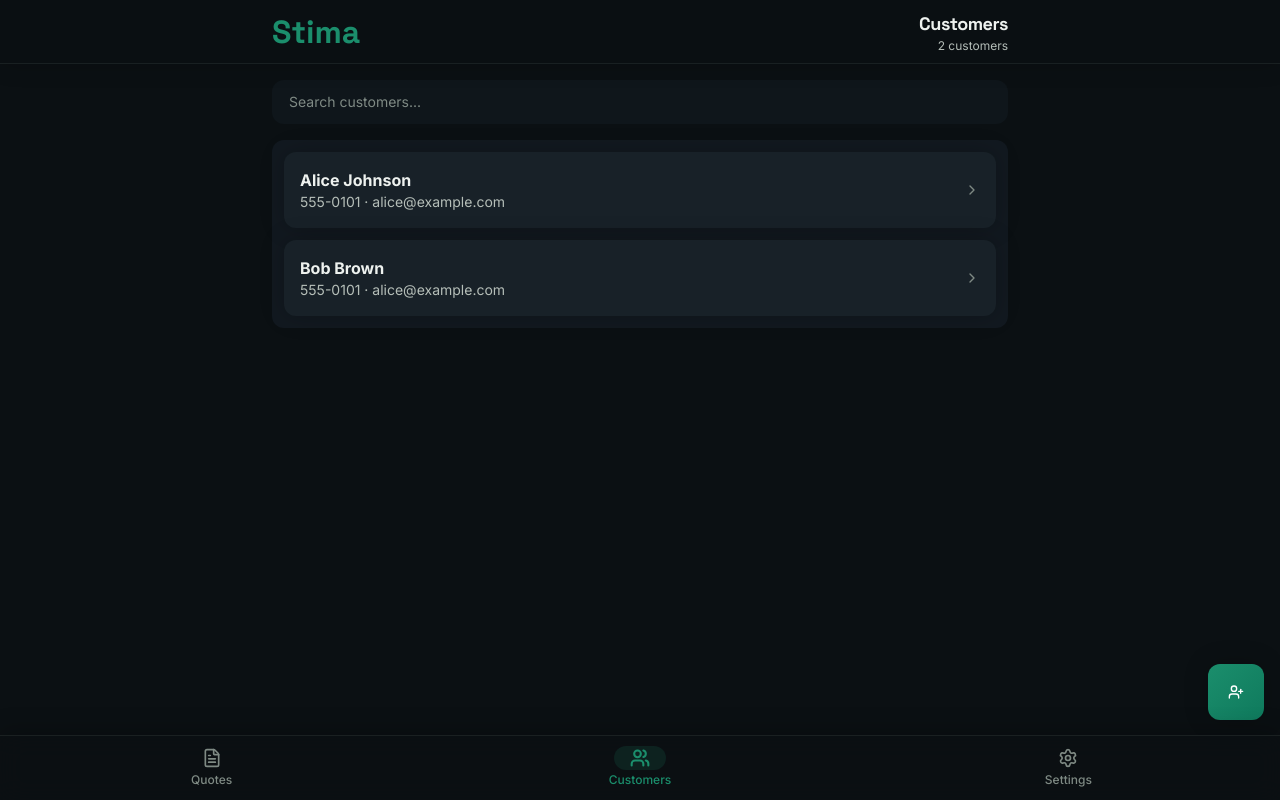
Test: CustomerListScreen › filters customer rows by name with case-insensitive search
Expected: the text "Alice Johnson" is shown, 300,170 -> 411,190
Type "bob" into the field labelled "Search customers" at (640, 102), box 289,92 -> 991,112
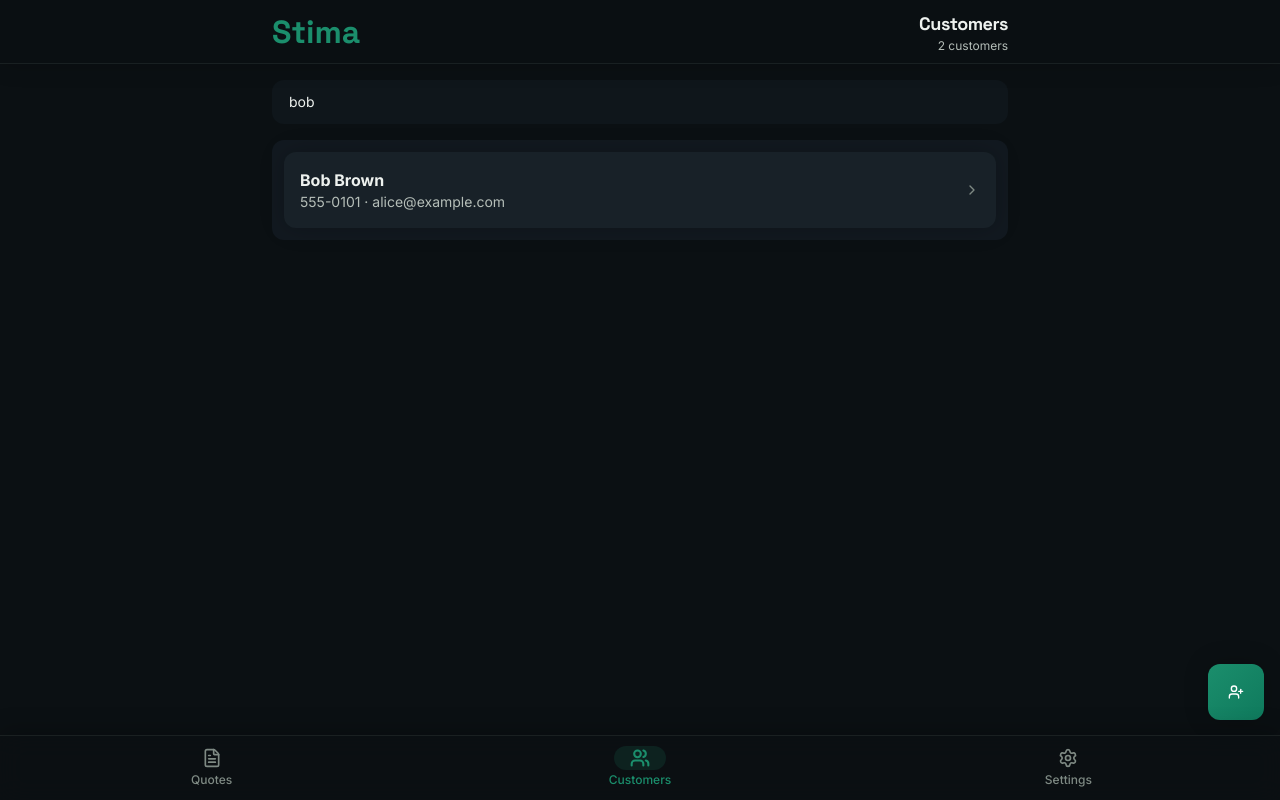
Expected: the text "Bob Brown" is shown, 300,170 -> 384,190
Expected: the button "Alice Johnson" is gone
